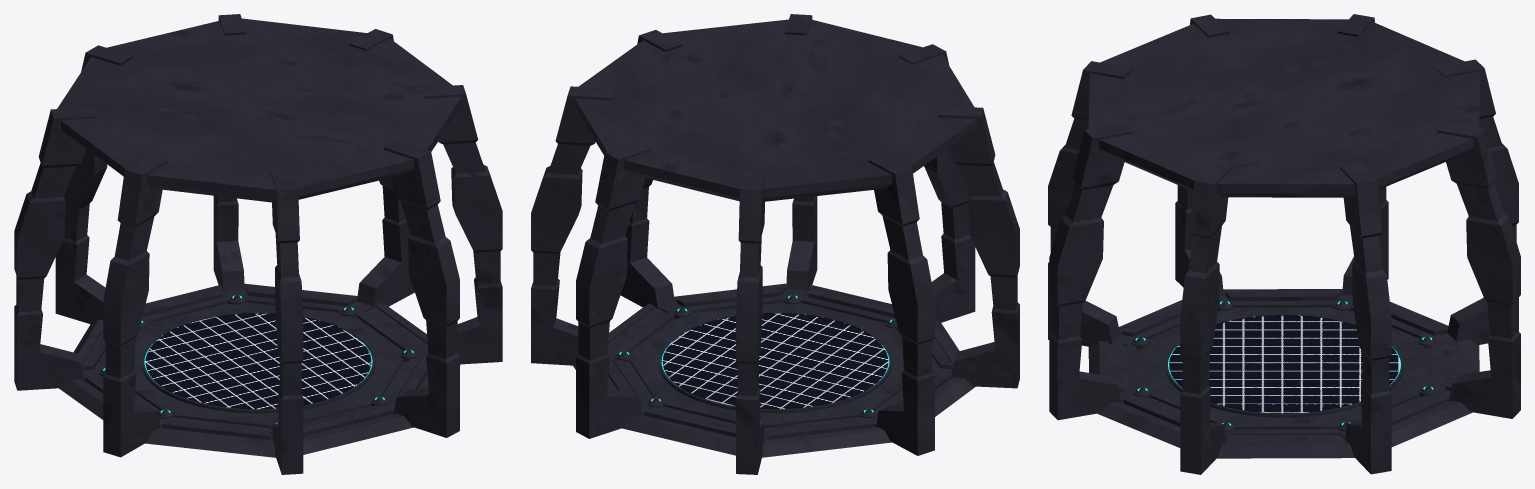
File: LowPolyMachine.fbx
The picture shows the model from 3 angles, left to right: view 1: azimuth 30°, elevation 25°; view 2: azimuth 150°, elevation 25°; view 3: azimuth 270°, elevation 25°; orthographic projection. The views are drawn at different scales.
Visible parts, largest first — view 1: Frame, HologramPlatform; view 2: Frame, HologramPlatform; view 3: Frame, HologramPlatform.
Boxes of the visible parts, x1=… form: Frame: x1=14, y1=14, x2=502, y2=474; HologramPlatform: x1=141, y1=312, x2=375, y2=413; Frame: x1=531, y1=14, x2=1019, y2=474; HologramPlatform: x1=659, y1=312, x2=892, y2=413; Frame: x1=1048, y1=14, x2=1520, y2=474; HologramPlatform: x1=1165, y1=313, x2=1403, y2=417.
Bounding box in the file's own units: 937 × 607 × 937.
4 materials, 2 textured.
